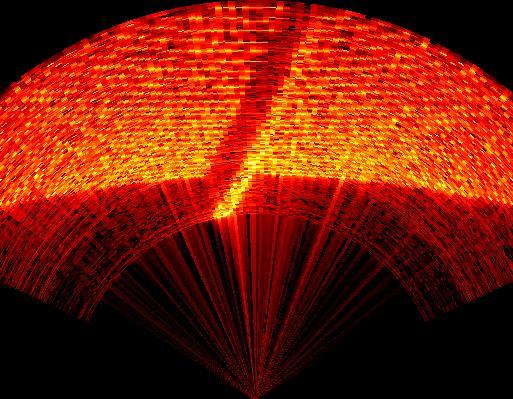pipe: (202, 0, 333, 218)
